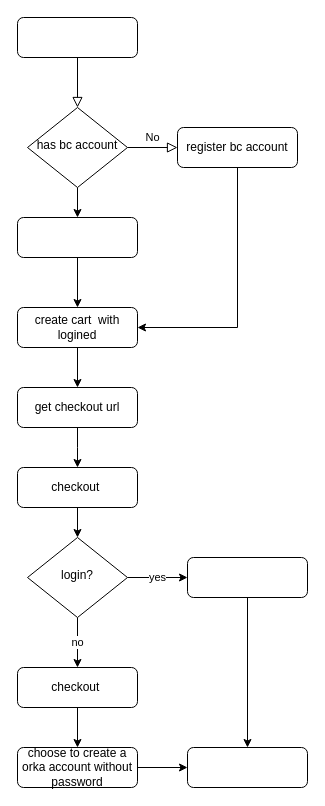
This 325x806 diagram has some shape labels left out. The centre of each missing label's shape, as x and y in pixels:
"email" goes at point (77, 37).
"get customer id" goes at point (77, 237).
"purchase successful" goes at point (247, 577).
"store order message on orka account" goes at point (247, 767).
